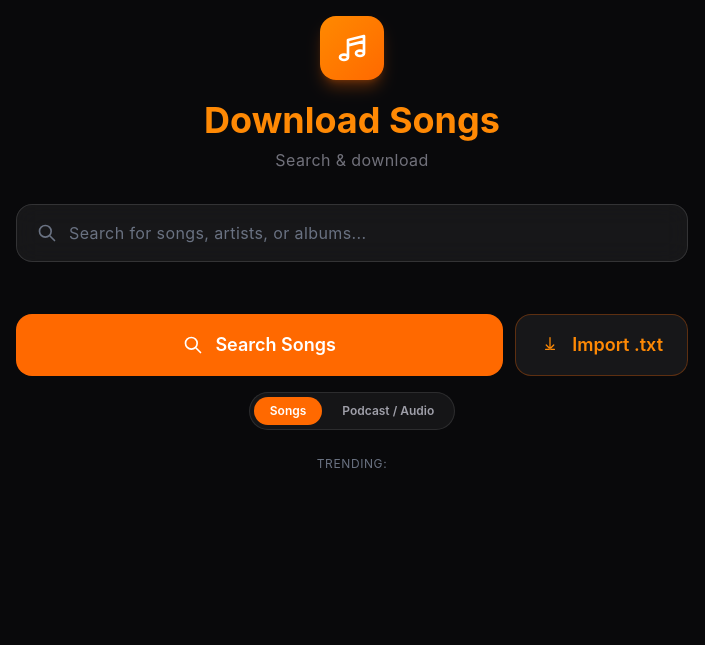
Test: Download search › shows an explicit empty result instead of a blank page
The width and height of the screenshot is (705, 645).
Type "zzzz" into the field with placeholder "Search for songs, artists, or albums..." at (378, 233), box [69, 205, 687, 261]
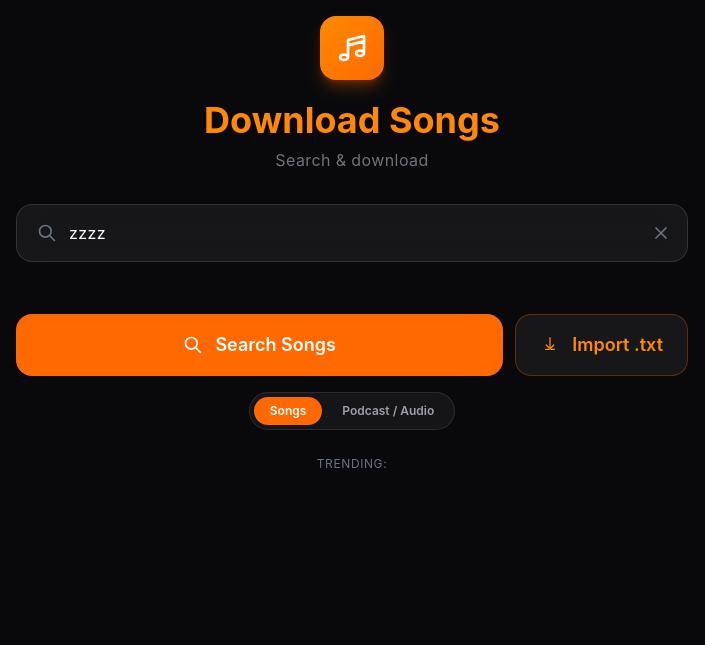
Click the button "Search Songs" at (260, 345), box [16, 314, 503, 376]
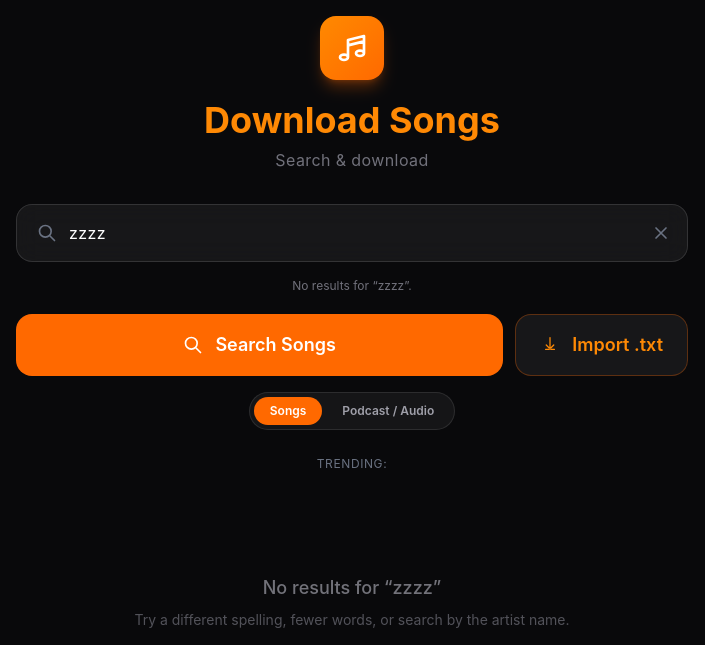
Now the text "No results for “zzzz”." is shown, box [292, 278, 412, 293]
